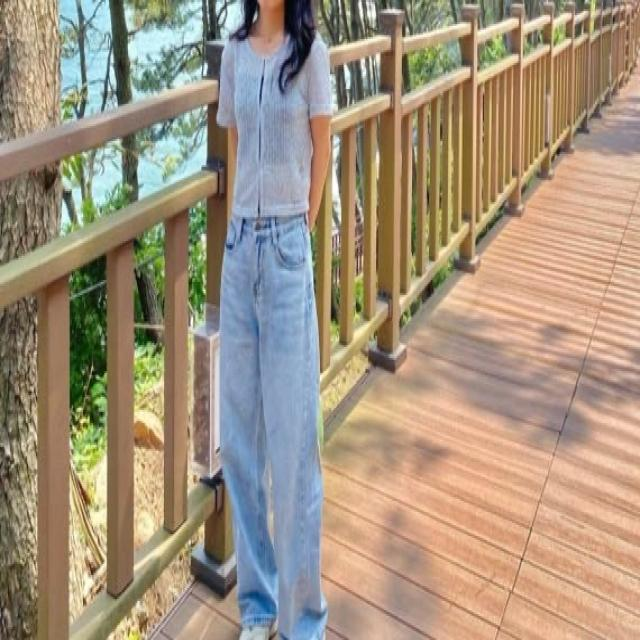cardigan: (216, 21, 334, 214)
denimpants: (219, 200, 327, 640)
